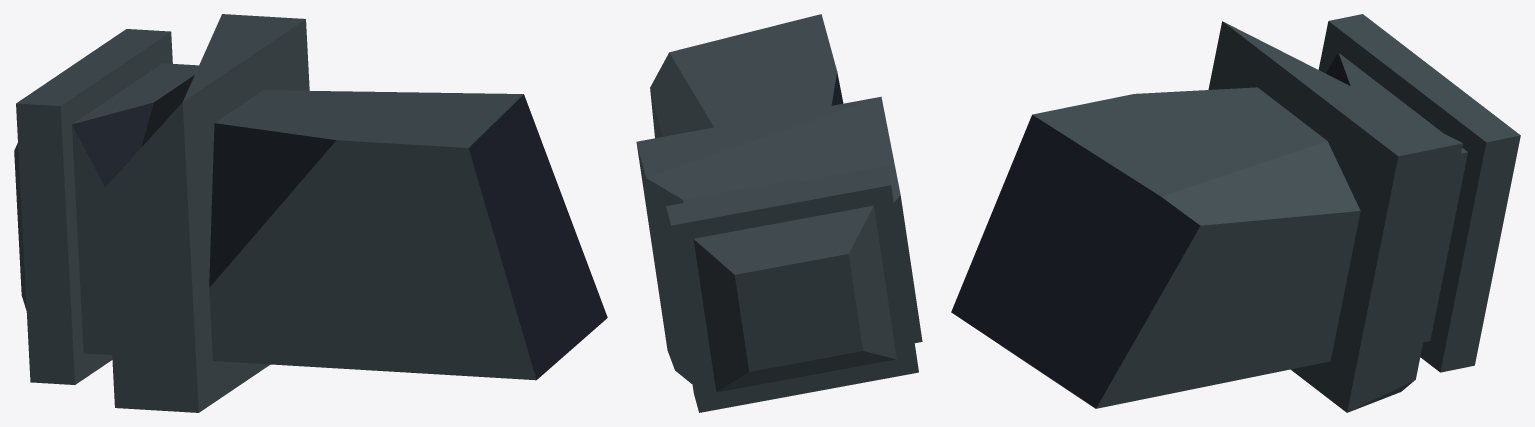
Rendered from Pilar belah 2.fbx.
3 renders of one model, left to right at view 1: azimuth 30°, elevation 25°; view 2: azimuth 150°, elevation 25°; view 3: azimuth 270°, elevation 25°, orthographic. The views are drawn at different scales.
Parts seen in each view (by area): view 1: Cube.013; view 2: Cube.013; view 3: Cube.013.
Part boxes in pixels (left/top/right/bottom): Cube.013: left=14, top=14, right=607, bottom=412; Cube.013: left=636, top=14, right=922, bottom=412; Cube.013: left=951, top=14, right=1520, bottom=412.
Bounding box in the file's own units: 4.44 × 3.12 × 5.27.
